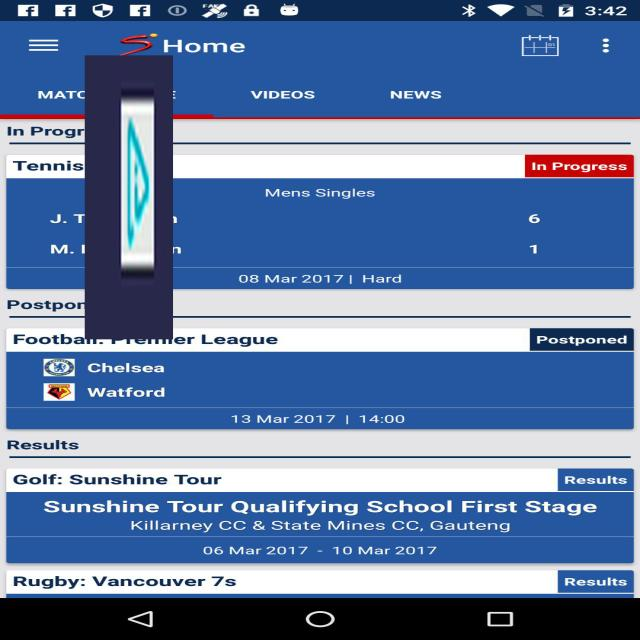sneaking: (85, 56, 173, 340)
